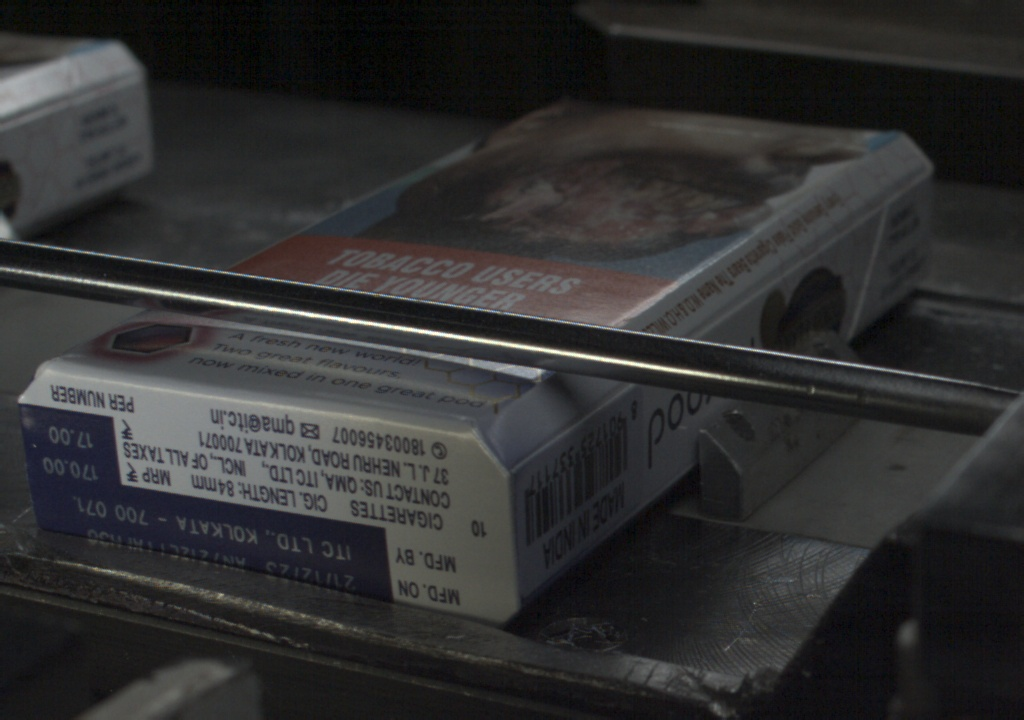g_bottom: (17, 364, 518, 626)
g_label: (31, 487, 391, 597)
g_lmiter: (695, 268, 788, 335), (788, 208, 873, 268), (555, 386, 629, 442), (507, 426, 573, 473)
g_miter: (876, 163, 935, 205)
price: (22, 412, 121, 485)
